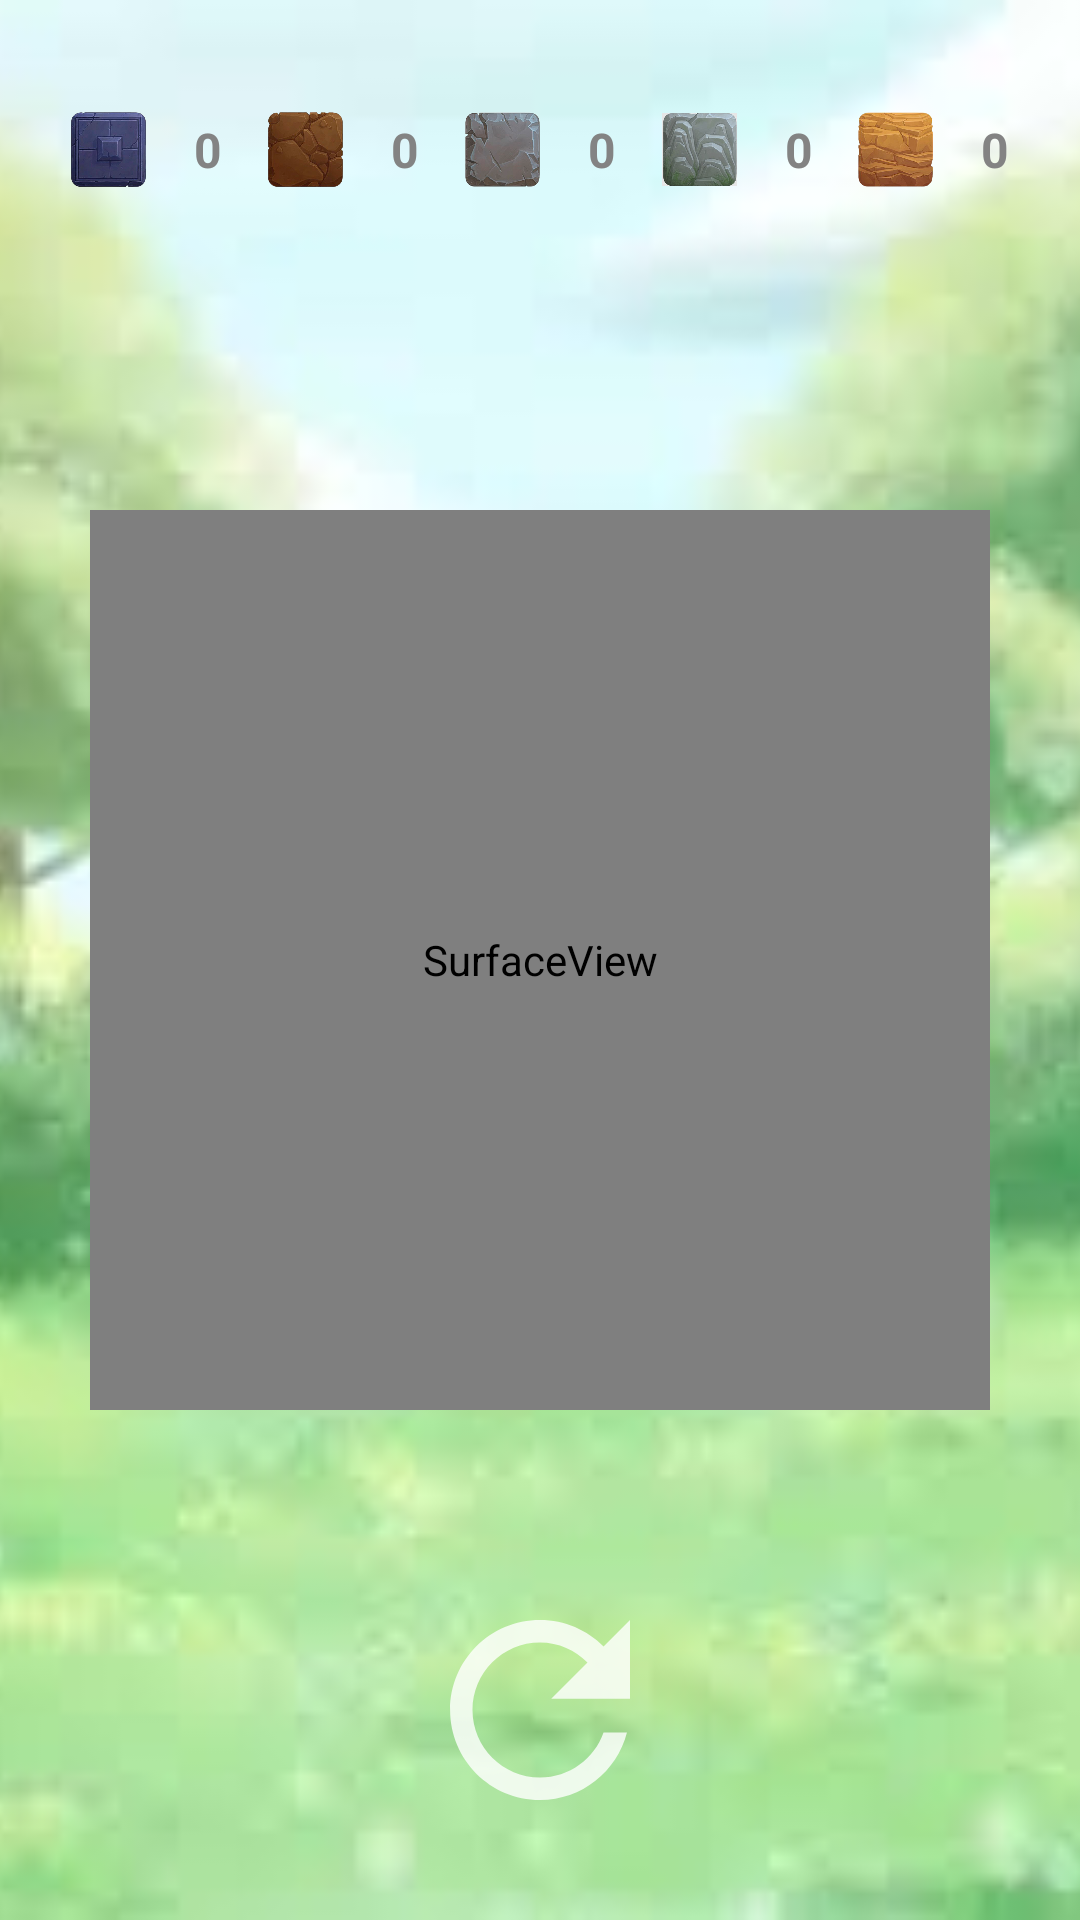

Screen size 1080w x 1920h. Icon name, then its box in pixels as (x1, y1, x2, y2):
brown pubble: (268, 112, 343, 187)
origin pubble: (858, 112, 933, 187)
pubble: (71, 112, 146, 187), (465, 112, 540, 187), (663, 113, 737, 186)
update: (450, 1620, 630, 1800)
